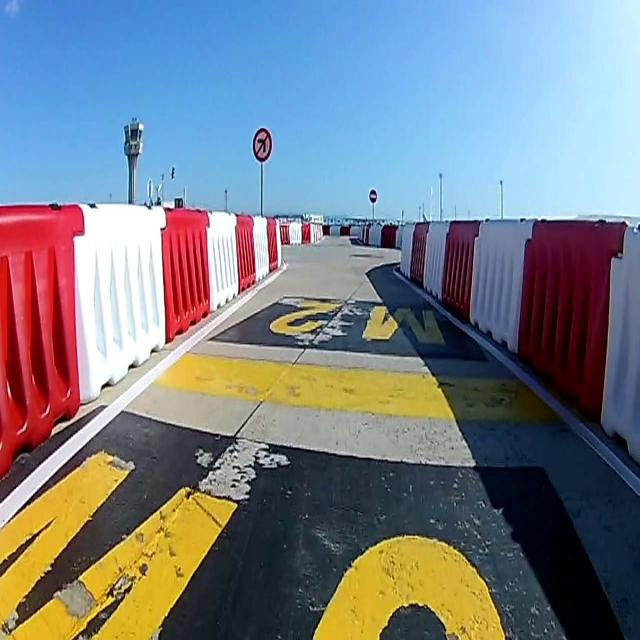soladonulmez: (253, 128, 272, 160)
